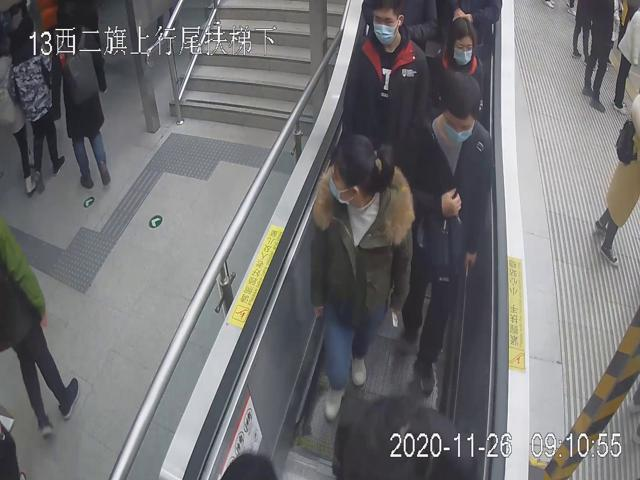person: (307, 127, 414, 422), (401, 69, 494, 397), (343, 0, 429, 159), (423, 17, 490, 121)
